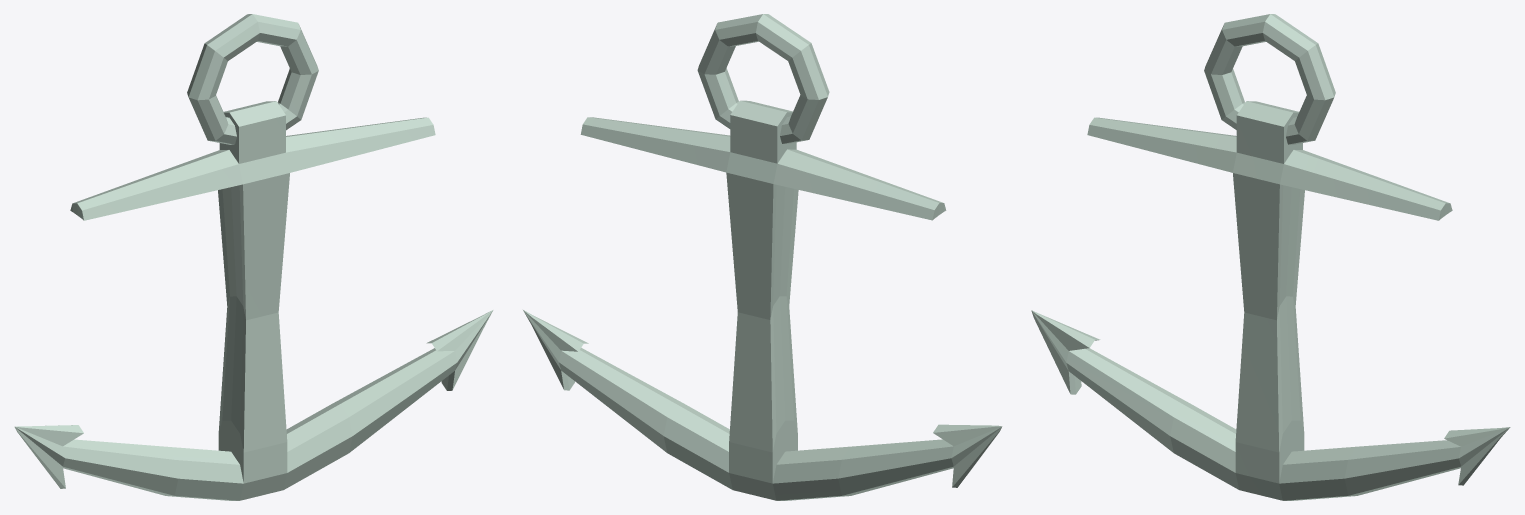
The model's file is Anchor.fbx.
3 renders of one model, left to right at view 1: azimuth 30°, elevation 25°; view 2: azimuth 150°, elevation 25°; view 3: azimuth 330°, elevation 25°, orthographic.
Parts seen in each view (by area): view 1: Cylinder; view 2: Cylinder; view 3: Cylinder.
Part boxes in pixels (x1,y1,x2,y2): Cylinder: [14, 14, 493, 500]; Cylinder: [523, 14, 1002, 500]; Cylinder: [1031, 14, 1510, 500].
Size of the model in its own units: 2200 by 2111 by 216.
